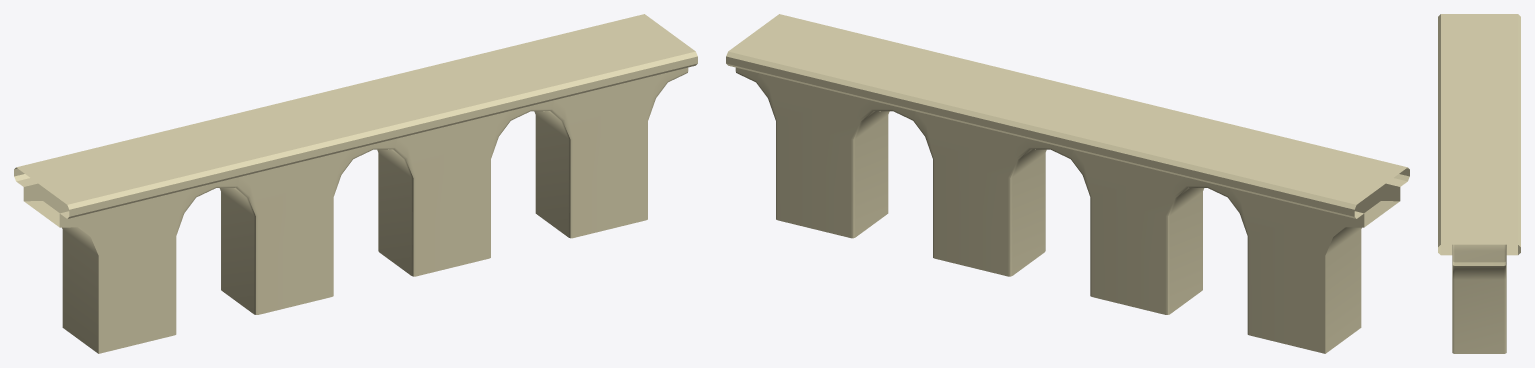
File: Barrière_Ligne.fbx
3 renders of one model, left to right at view 1: azimuth 30°, elevation 25°; view 2: azimuth 150°, elevation 25°; view 3: azimuth 270°, elevation 25°, orthographic. The views are drawn at different scales.
Parts seen in each view (by area): view 1: barriere_ligne_droite_barriere4; view 2: barriere_ligne_droite_barriere4; view 3: barriere_ligne_droite_barriere4.
Part boxes in pixels (x1,y1,x2,y2): barriere_ligne_droite_barriere4: (14,14,697,353); barriere_ligne_droite_barriere4: (726,14,1409,353); barriere_ligne_droite_barriere4: (1438,14,1520,353).
Bounding box in the file's own units: 58.33 × 14.56 × 8.86.
